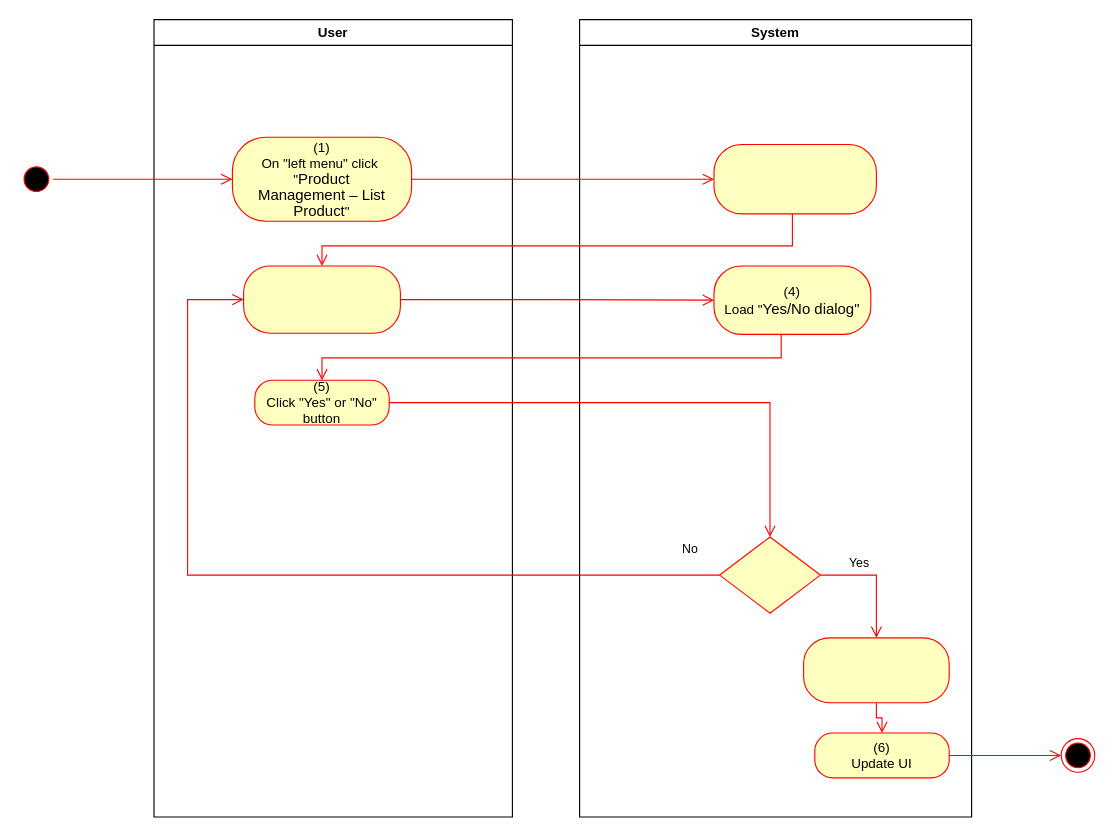
Image size: 1114x837. Some labels were removed from this diagram. The shapes that lost their labels are listed below. From the top down, each one's box as (x1, y1, x2, y2) in pixels, then its label:
(713, 143, 876, 214): (2) Load " List Product (Seller) " Screen
(242, 265, 400, 333): (3) Click button "Xóa" trên 1 item hàng hóa bất kỳ
(802, 637, 949, 703): (5.1) Delete product to DB
